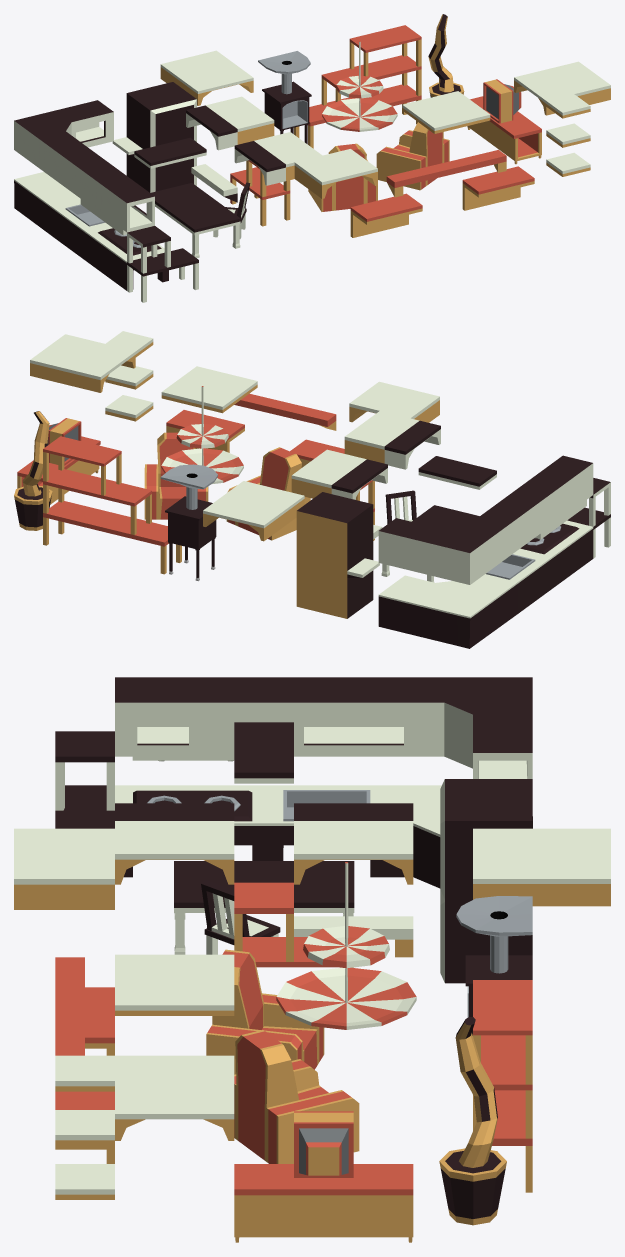
The model's file is Furnish.fbx.
3 views of the same model, one above another, from view 1: azimuth 30°, elevation 25°; view 2: azimuth 150°, elevation 25°; view 3: azimuth 270°, elevation 25° (orthographic). The views are drawn at different scales.
Parts seen in each view (by area): view 1: furnish.020, furnish.002, furnish.001, furnish.012, furnish.003, doorarch, chandelier, stove, doorarch.002, doorarch.001, furnish.009, Plane.019 (+23 smaller); view 2: furnish.002, furnish.020, furnish.001, furnish.012, doorarch.001, doorarch.003, stove, doorarch.002, doorarch, chandelier, doorarch.004, furnish.009 (+20 smaller); view 3: furnish.020, furnish.005, furnish.002, doorarch.002, furnish.001, chandelier, furnish.009, furnish.012, doorarch.001, doorarch.004, doorarch, doorarch.003 (+22 smaller).
Part boxes in pixels (x1,y1,x2,y2): furnish.020: (14,100,154,235); furnish.002: (14,172,168,290); furnish.001: (126,82,196,192); furnish.012: (294,25,421,148); furnish.003: (150,183,240,257); doorarch: (186,96,274,150); chandelier: (322,41,397,131); stove: (258,51,311,144); doorarch.002: (160,50,253,105); doorarch.001: (514,61,610,115); furnish.009: (376,122,449,190); Plane.019: (127,226,198,302); furnish.002: (378,520,593,648); furnish.020: (378,455,593,584); furnish.001: (296,492,373,618); furnish.012: (43,436,181,574); doorarch.001: (30,334,135,392); doorarch.003: (344,411,440,469); stove: (160,464,217,581); doorarch.002: (203,481,304,541); doorarch: (291,449,387,499); chandelier: (161,386,243,483); doorarch.004: (349,381,439,422); furnish.009: (144,432,208,519); furnish.020: (115,677,532,778); furnish.005: (234,1164,413,1242); furnish.002: (115,785,532,888); doorarch.002: (473,828,610,906); furnish.001: (440,779,532,983); chandelier: (276,862,416,1029); furnish.009: (234,1030,359,1163); furnish.012: (473,980,532,1192); doorarch.001: (115,1055,234,1140); doorarch.004: (14,828,114,909); doorarch: (294,803,413,884); doorarch.003: (115,803,234,884).
Size of the model in its own units: 2077 by 540 by 1200.
